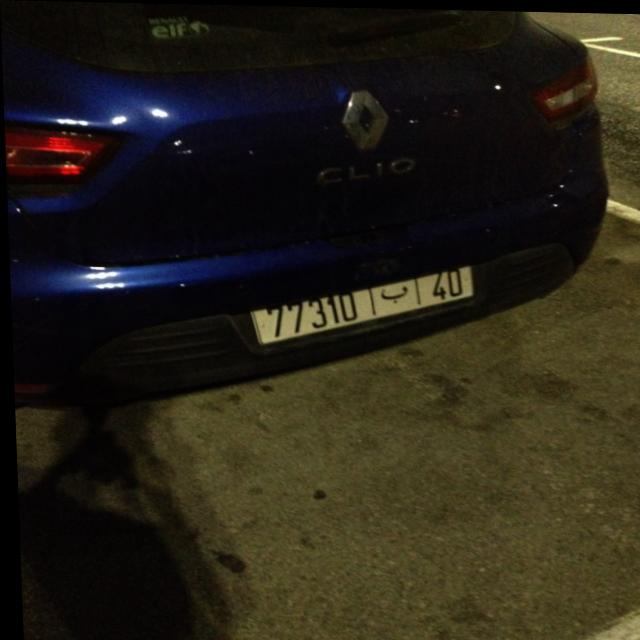License-Plate: (249, 265, 472, 343)
